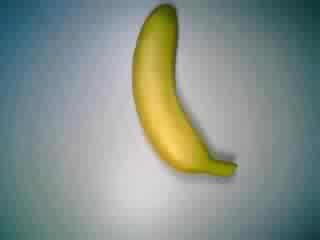banana: (132, 4, 242, 178)
